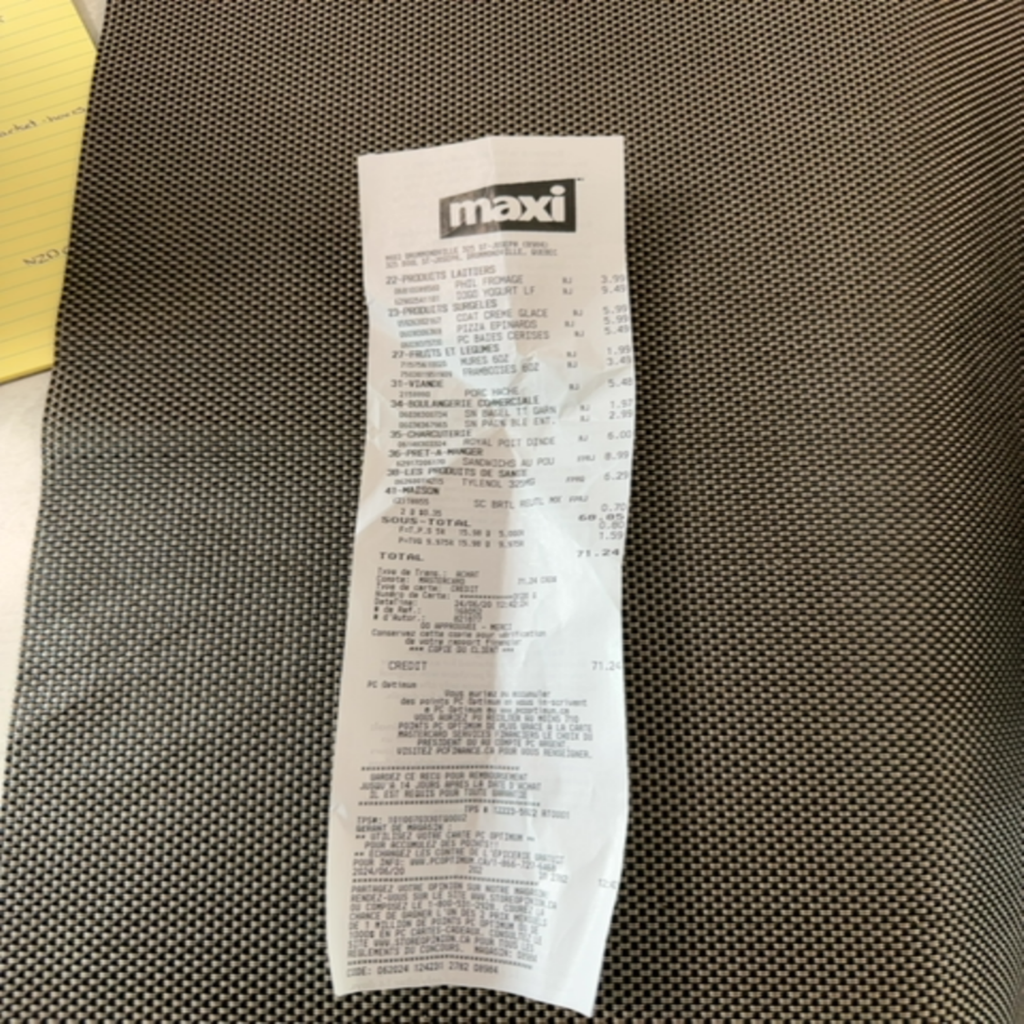recipt: (329, 136, 634, 1014)
